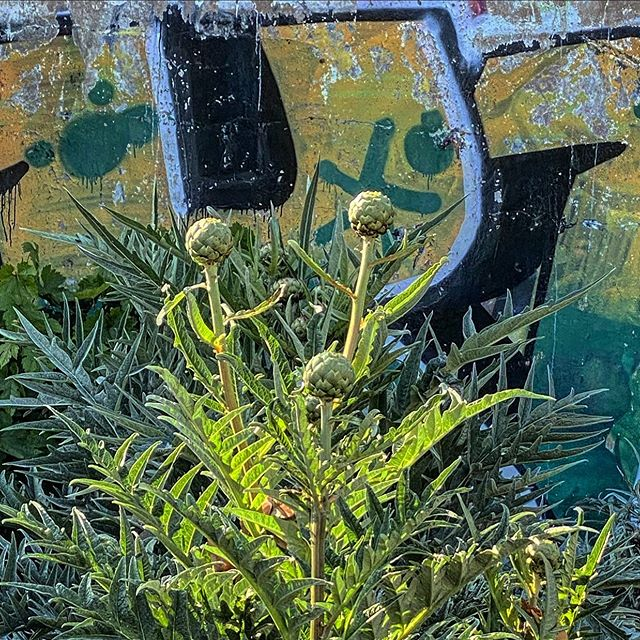graffiti: (28, 20, 640, 505)
vegetation: (1, 193, 613, 640)
